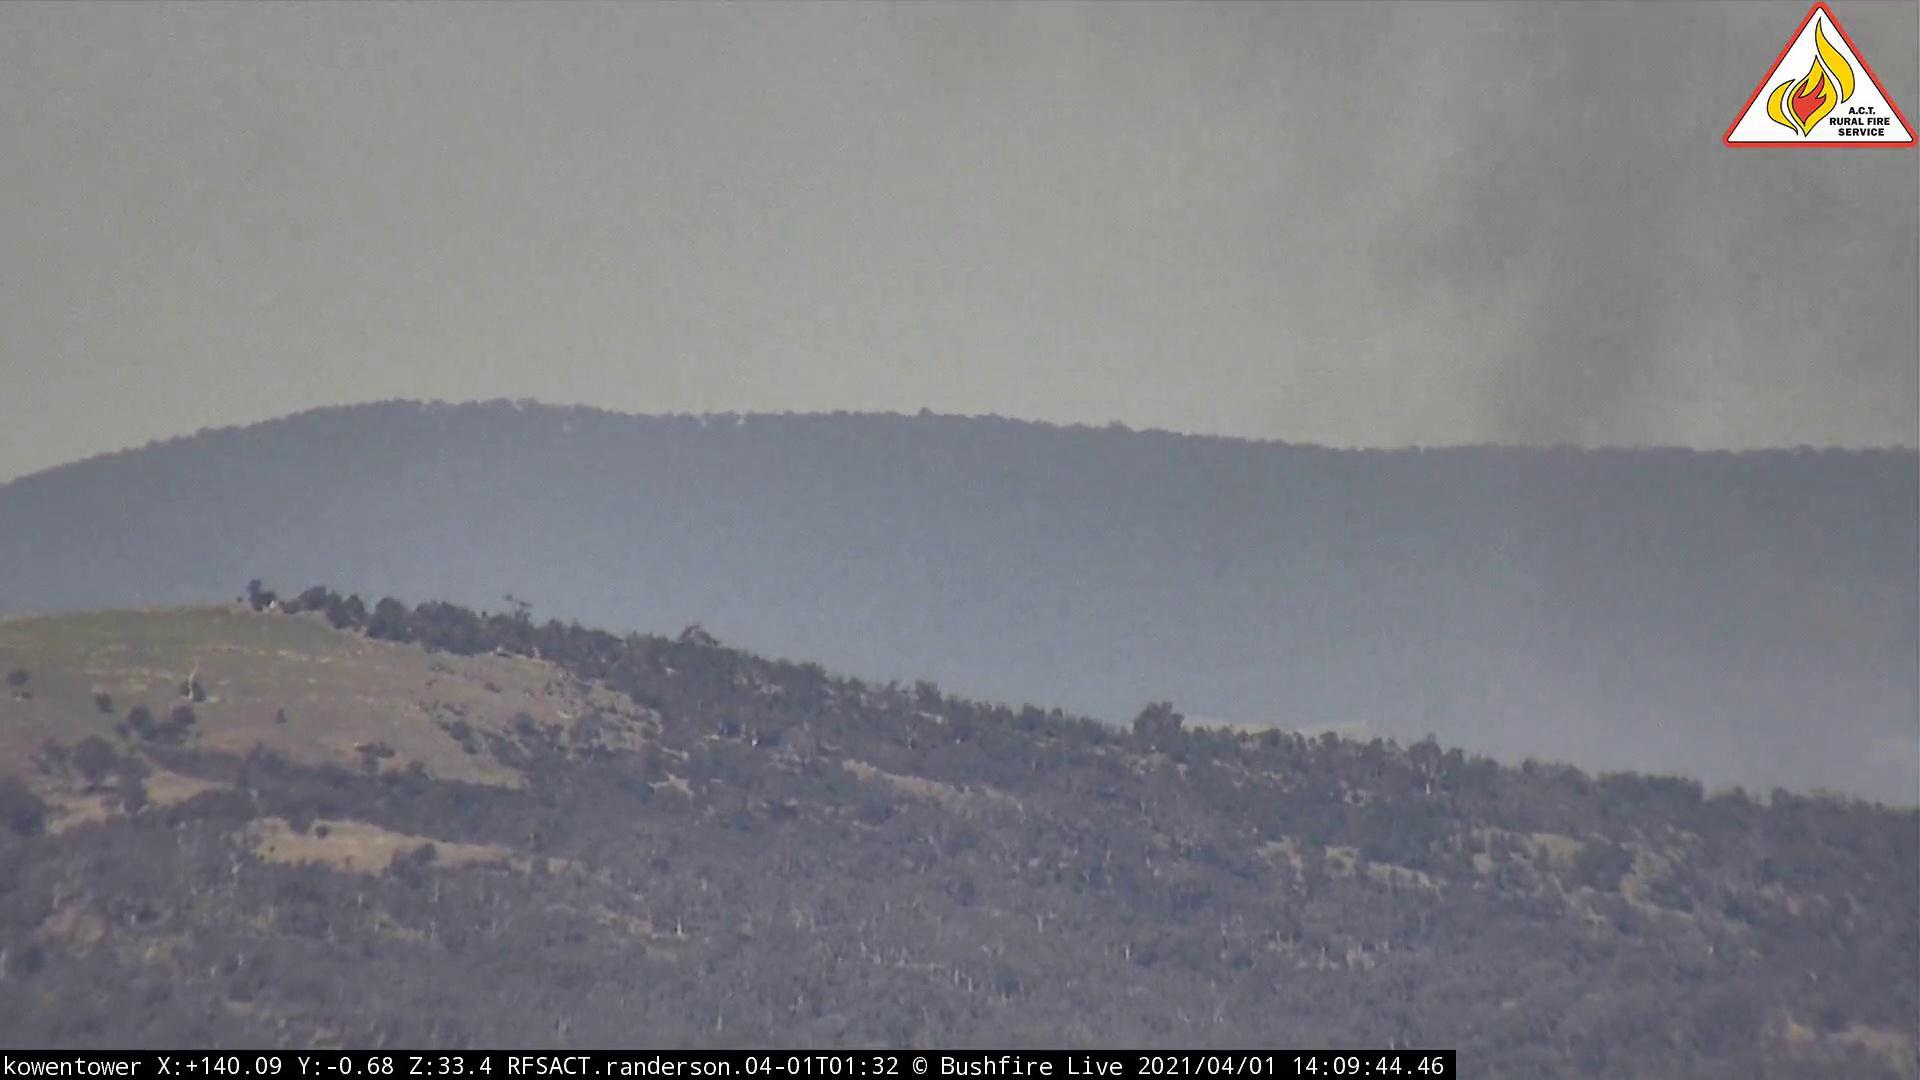Smoke: (1213, 208, 1920, 825)
